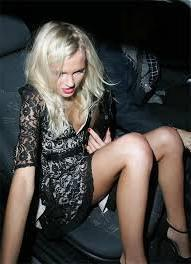Drunk: (51, 50, 87, 97)
